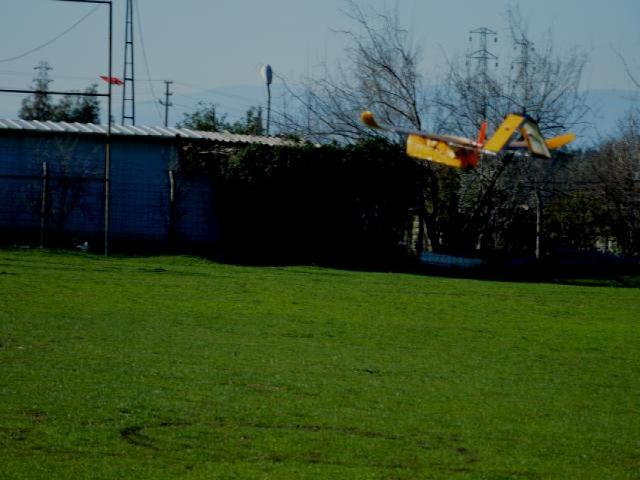iha: (346, 106, 586, 169)
